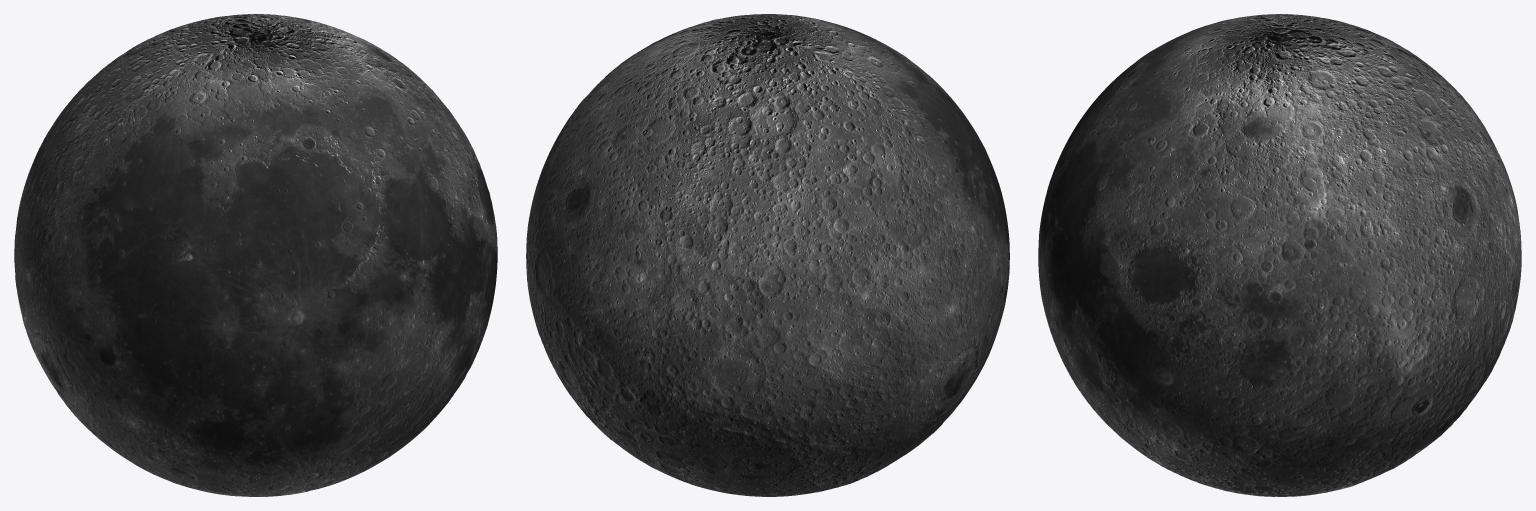
File: polaris_moon_globe.glb
3 renders of one model, left to right at view 1: azimuth 30°, elevation 25°; view 2: azimuth 150°, elevation 25°; view 3: azimuth 270°, elevation 25°, orthographic.
Visible parts, largest first — view 1: MOON WEB | cube-sphere n=192 | pyramid L0 | WAC morphologic ; view 2: MOON WEB | cube-sphere n=192 | pyramid L0 | WAC morphologic ; view 3: MOON WEB | cube-sphere n=192 | pyramid L0 | WAC morphologic .
Boxes of the visible parts, x1,y1,x2,y2 form: MOON WEB | cube-sphere n=192 | pyramid L0 | WAC morphologic : [14, 14, 497, 496]; MOON WEB | cube-sphere n=192 | pyramid L0 | WAC morphologic : [526, 14, 1009, 496]; MOON WEB | cube-sphere n=192 | pyramid L0 | WAC morphologic : [1038, 14, 1521, 496].
Size of the model in its own units: 3473 by 3476 by 3477.
6 materials, 6 textured.
